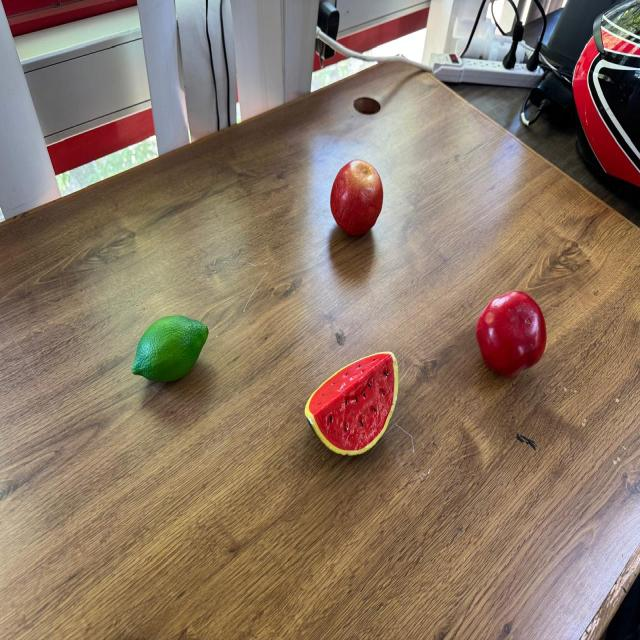apple: (330, 158, 384, 237)
lemon: (132, 315, 209, 383)
tomato: (476, 290, 548, 378)
watermelon: (304, 350, 399, 457)
